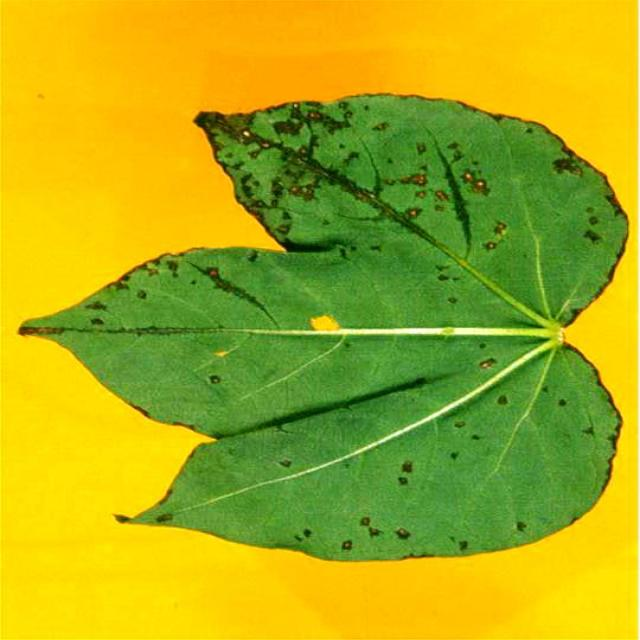Bacterial Blight: (202, 92, 462, 255)
